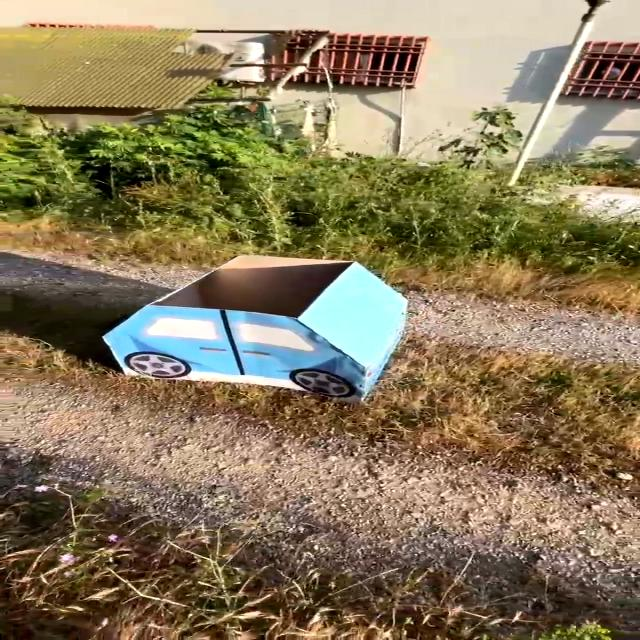blue_car: (70, 241, 432, 416)
